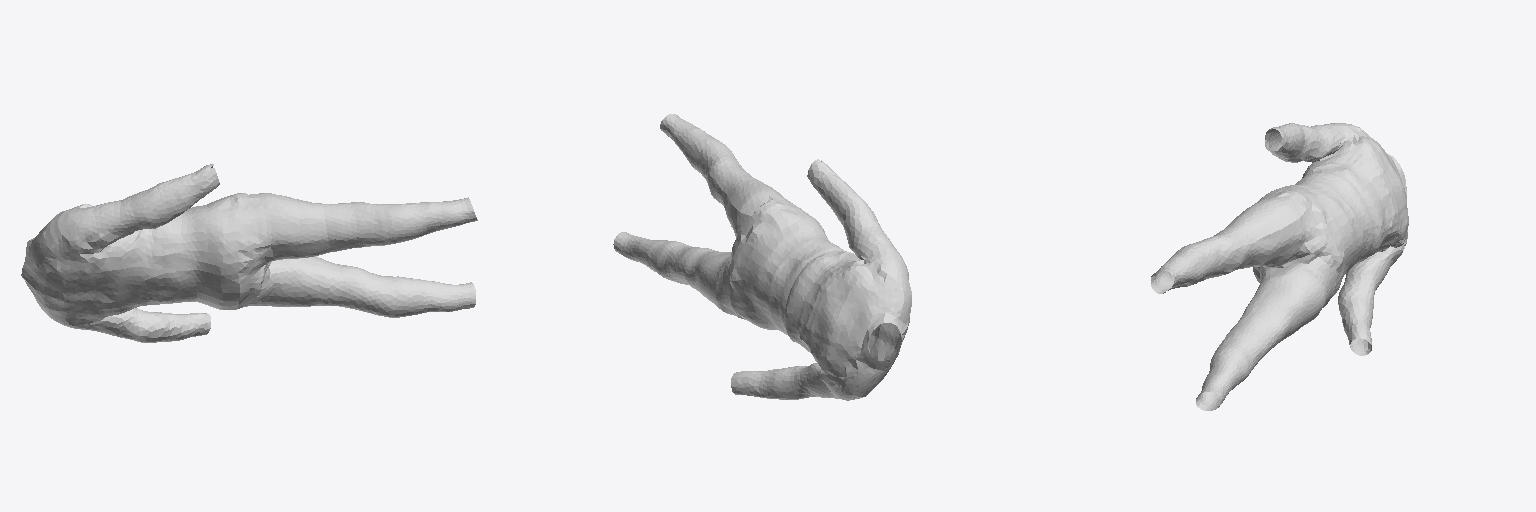
File: wet_output_patch.obj
3 views of the same model, side by side, from view 1: azimuth 30°, elevation 25°; view 2: azimuth 150°, elevation 25°; view 3: azimuth 270°, elevation 25° (orthographic).
Size of the model in its own units: 1.31 by 0.7178 by 0.799.